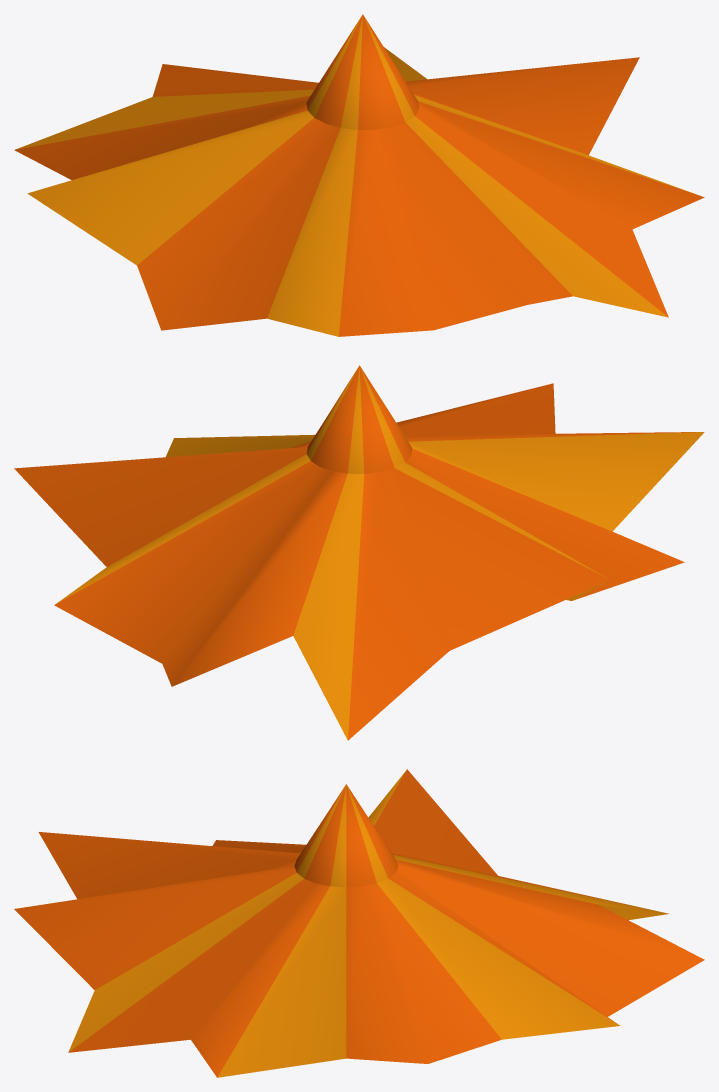
The model's file is Fire.fbx.
3 renders of one model, top to bottom at view 1: azimuth 30°, elevation 25°; view 2: azimuth 150°, elevation 25°; view 3: azimuth 270°, elevation 25°, orthographic. The views are drawn at different scales.
Parts seen in each view (by area): view 1: pCylinder1; view 2: pCylinder1; view 3: pCylinder1.
Part boxes in pixels (box(x1,y1,x2,y2)): pCylinder1: box(14, 14, 704, 336); pCylinder1: box(14, 365, 704, 740); pCylinder1: box(14, 769, 704, 1077).
Size of the model in its own units: 6.91 by 2.46 by 7.39.
